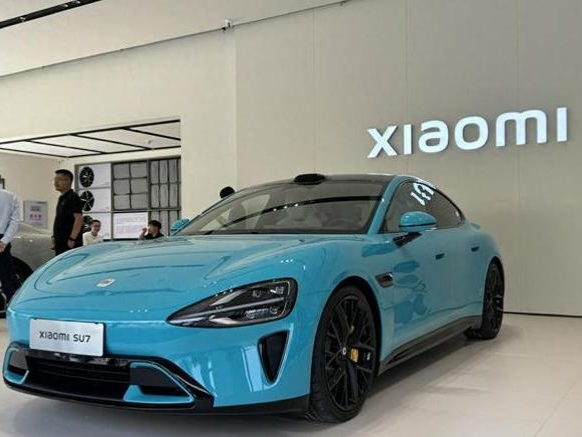su7: (14, 167, 515, 425)
